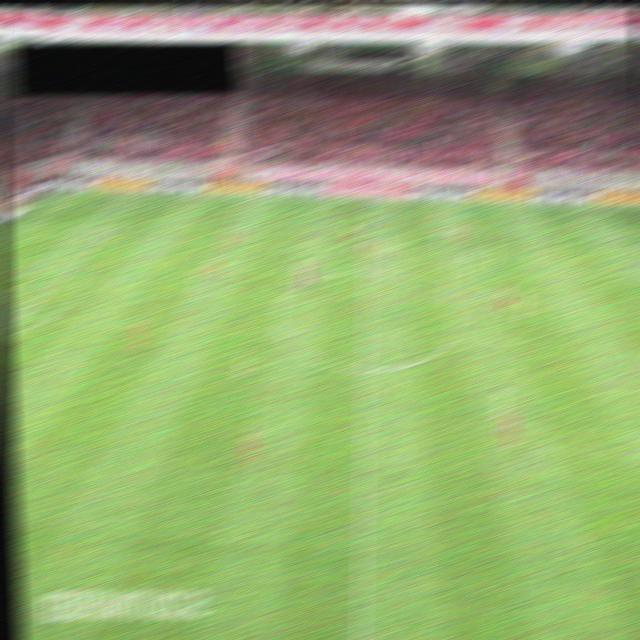bigarea_top_inner: (103, 221, 122, 231), (626, 237, 640, 250)
bigarea_top_outter: (1, 219, 15, 228)
corner: (45, 188, 64, 197)
halfcircle_bottom: (356, 365, 375, 374)
halfcircle_top: (356, 268, 376, 278)
midline_bottom_intersection: (287, 6, 305, 15)
midline_top_intersection: (359, 195, 377, 204)
top_arc_area_intersection: (60, 265, 80, 274)
